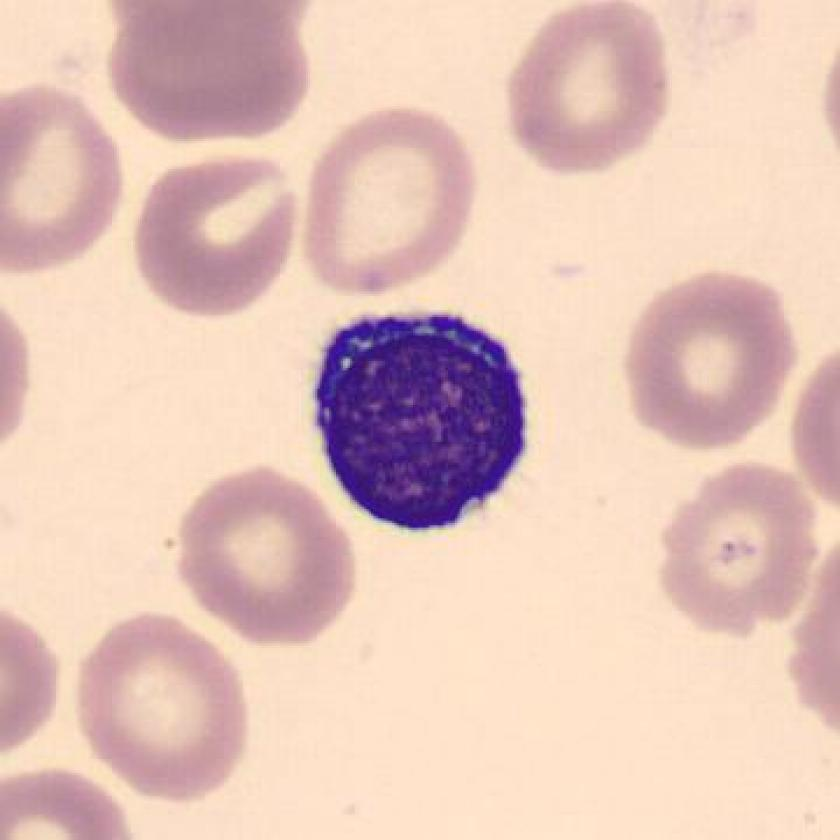lymphocyte: (293, 295, 552, 549)
